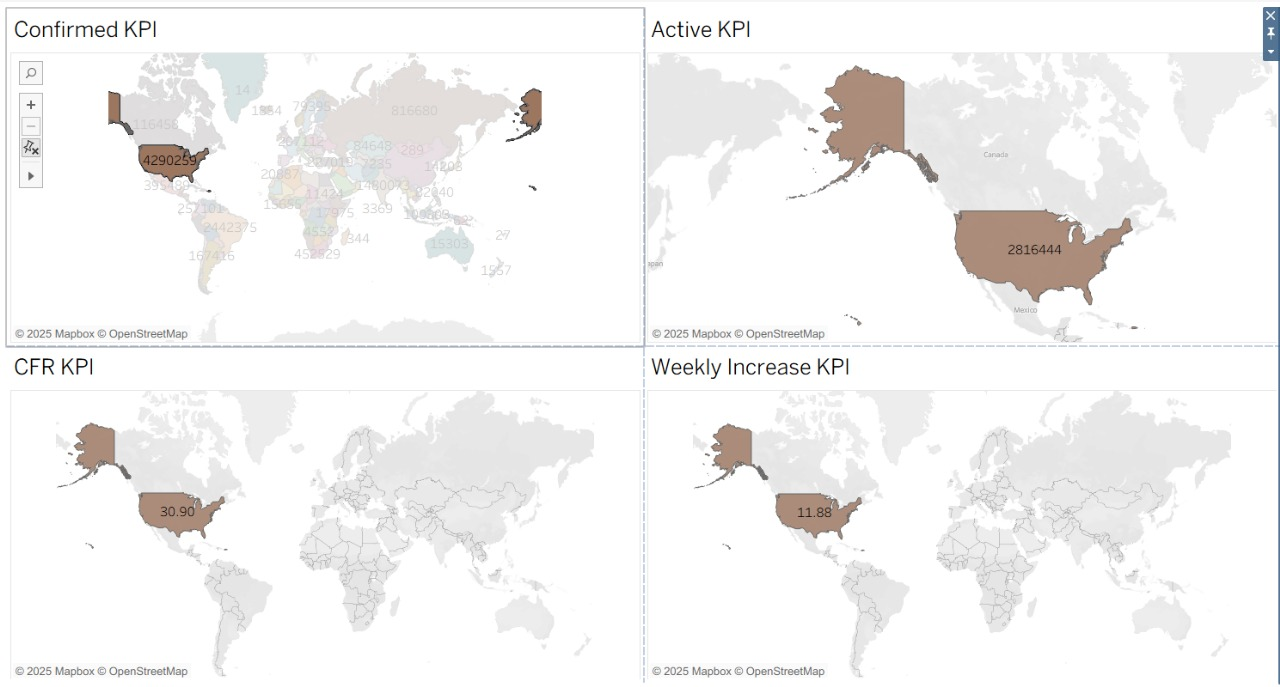

The dashboard page shown, as its layout file describes it:
{"tool":"tableau","page":{"name":"Dashboard 1","canvas":[1000,1000],"units":"permille","ordinal":0},"visuals":[{"type":"worksheet","title":"Confirmed KPI","mark":"Multipolygon","box":[4.8,10,446.9,490]},{"type":"worksheet","title":"Active KPI","mark":"Multipolygon","box":[451.7,10,446.9,490]},{"type":"legend","title":"CFR KPI","param":"[federated.0nbv3tm152qbo518wjh1g16v3dnt].[none:Country/Region:nk]","box":[898.6,10,96.6,63.7]},{"type":"worksheet","title":"CFR KPI","mark":"Multipolygon","box":[4.8,500,446.9,490]},{"type":"worksheet","title":"Weekly Increase KPI","mark":"Multipolygon","box":[451.7,500,446.9,490]}]}

Visuals, with their boxes on the dashboard's canvas, which has no fixed pixel size, in thousandths of its width and height (x1, y1, x2, y2). These are canvas units, not pixel positions in the 1280x687 screenshot, which may show the page scaled, cropped or inside an application window:
"Confirmed KPI" worksheet (Multipolygon marks): 5 10 452 500
"Active KPI" worksheet (Multipolygon marks): 452 10 899 500
"CFR KPI" legend: 899 10 995 74
"CFR KPI" worksheet (Multipolygon marks): 5 500 452 990
"Weekly Increase KPI" worksheet (Multipolygon marks): 452 500 899 990
